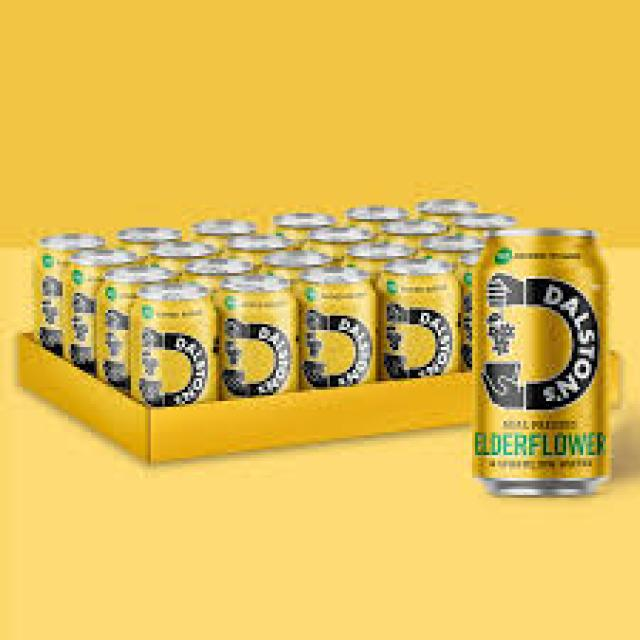Cans: (461, 216, 623, 506)
